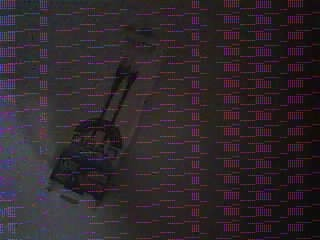paper: (45, 29, 172, 212)
